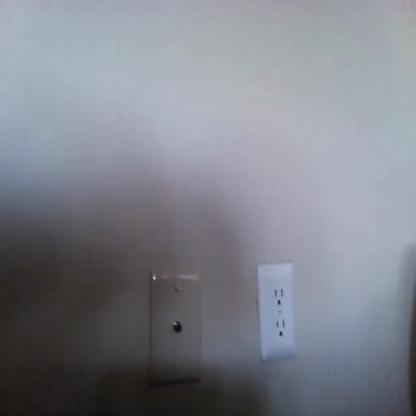OUTLET: (262, 263, 294, 359)
